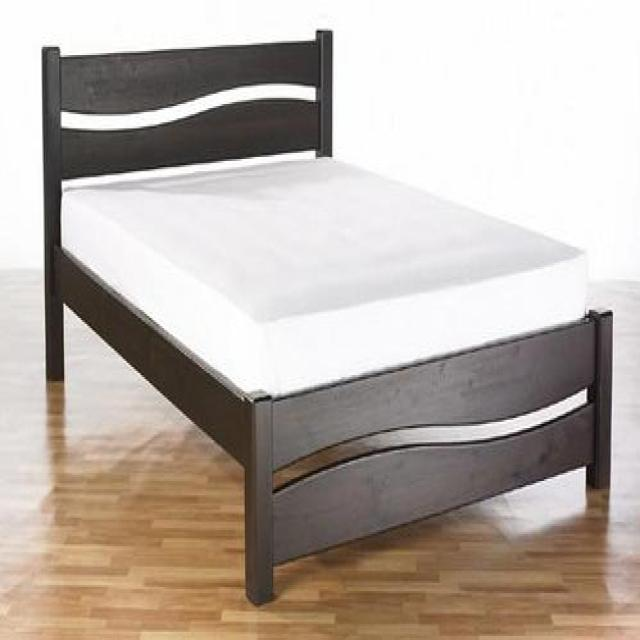bed: (39, 26, 616, 607)
